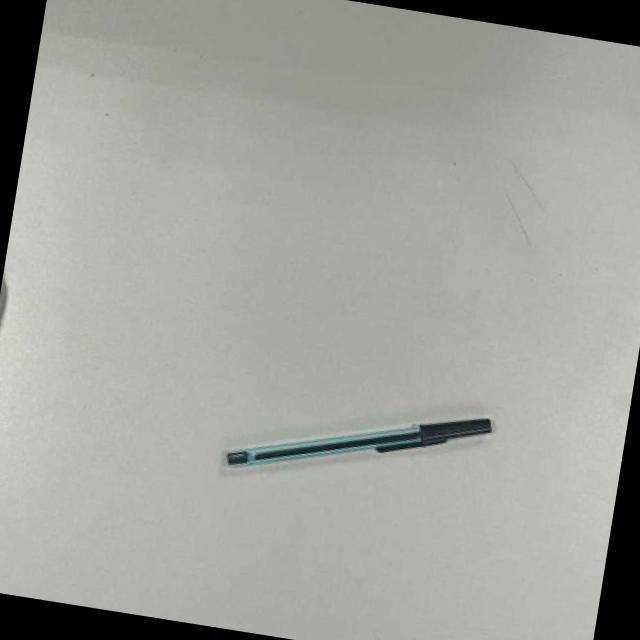caneta: (226, 415, 492, 474)
